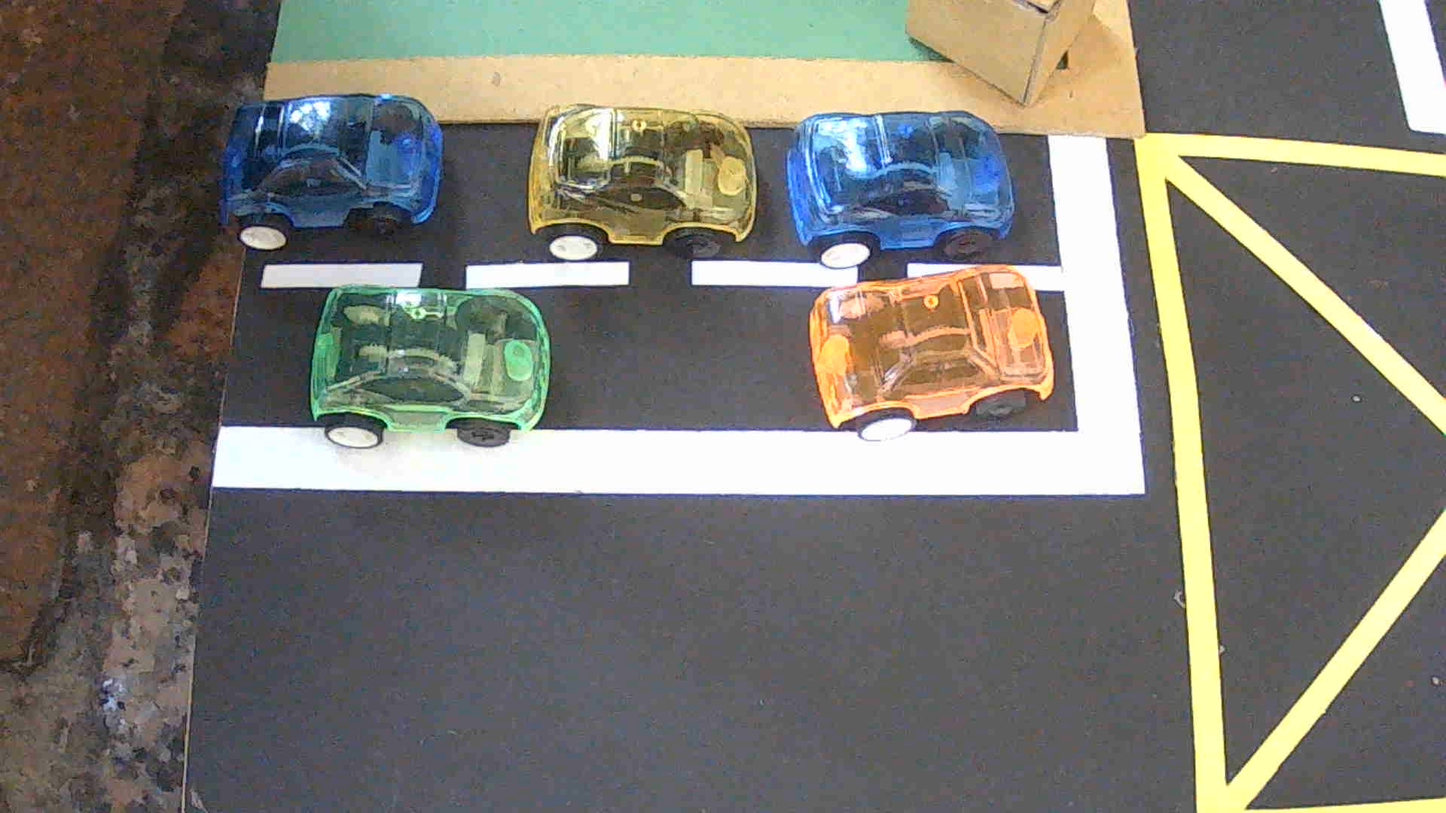Mobil biru: (787, 111, 1013, 267), (221, 94, 441, 250)
Mobil hijau: (311, 285, 550, 448)
Mobil kuning: (528, 105, 758, 259)
Mobil orange: (809, 265, 1053, 440)
